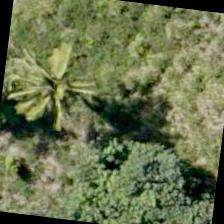Kelapa_Sawit: (14, 49, 114, 149)
